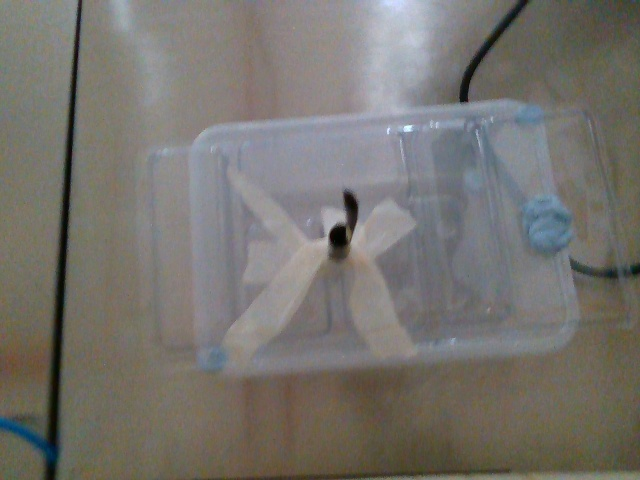test_strip: (340, 187, 358, 243)
